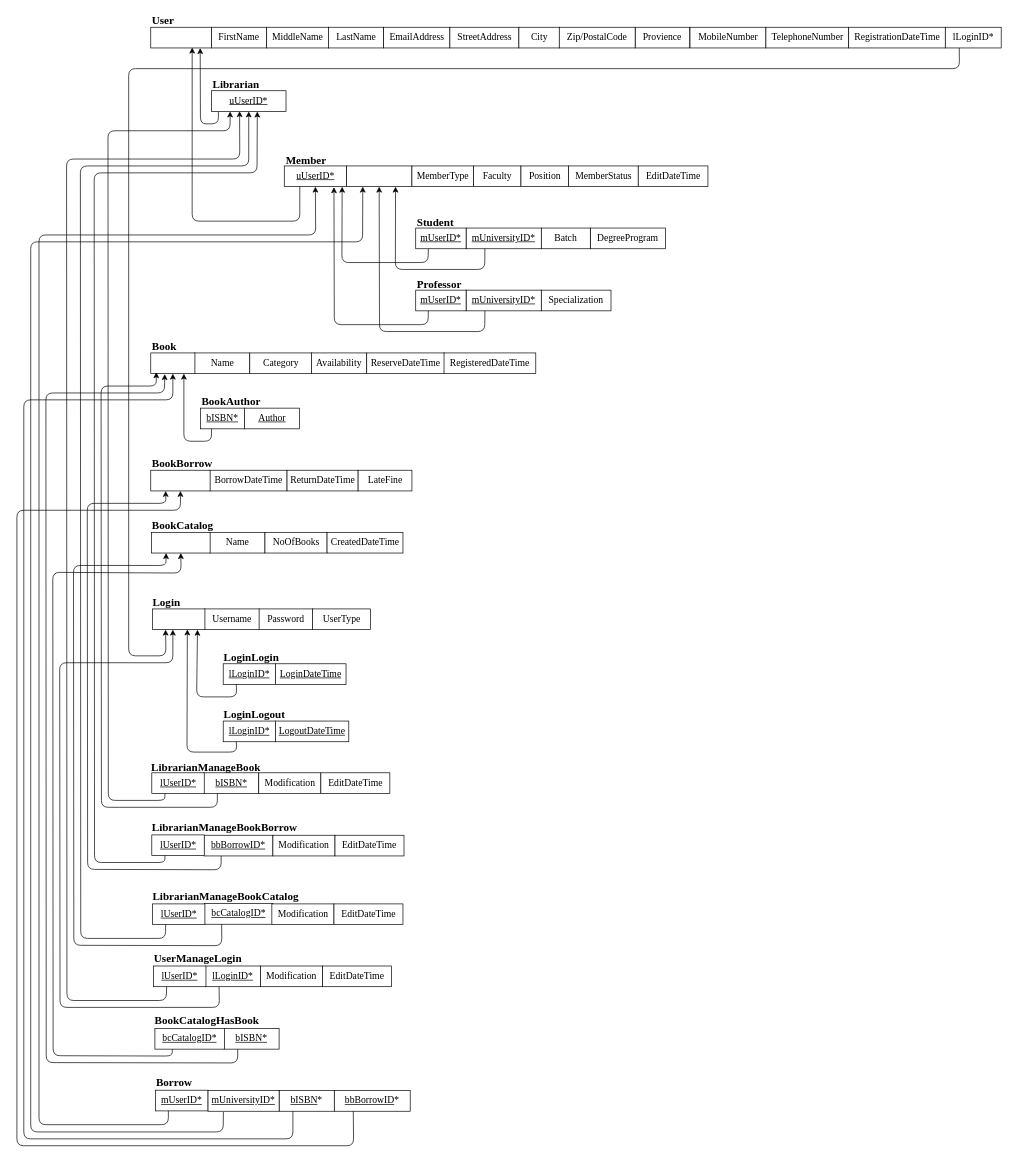
The diagram is 1014 pixels wide and 1163 high, and some of its shapes have lost their labels. Here are the shapes that lost their labels. From the top down, the centre of each, then its label:
point 180,37: UserID
point 379,176: UniversityID
point 172,363: ISBN
point 180,480: BorrowID
point 180,542: CatalogID
point 178,619: LoginID
